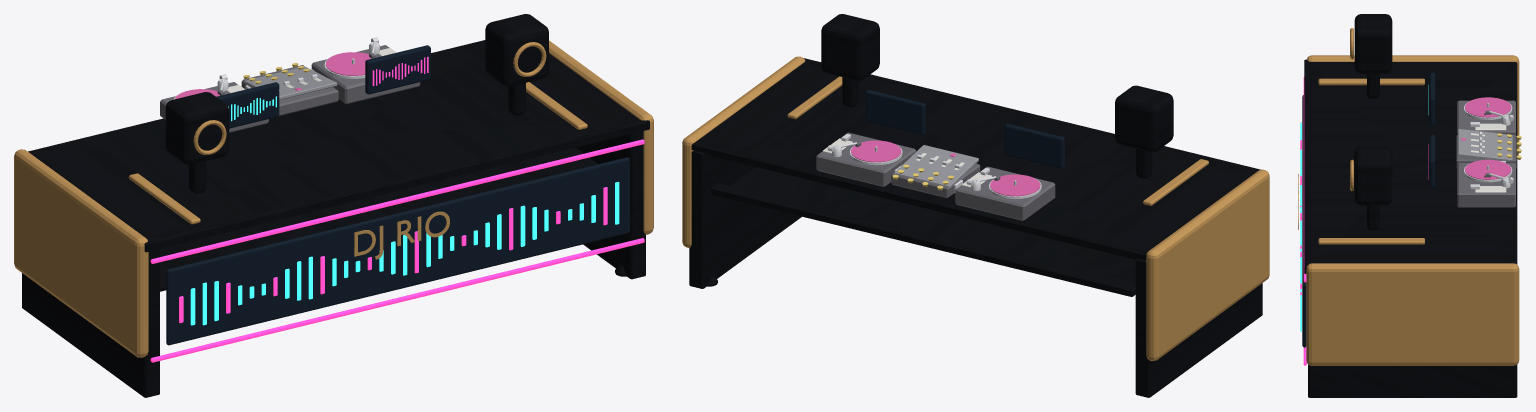
The model's file is dj-rio-console.glb.
3 views of the same model, side by side, from view 1: azimuth 30°, elevation 25°; view 2: azimuth 150°, elevation 25°; view 3: azimuth 270°, elevation 25° (orthographic). The views are drawn at different scales.
Visible parts, largest first — view 1: dj-booth-desk, Rio / deck display -1, Rio / side cheek, Rio / waveform.018, Rio / waveform, dj-mixer, turntable-deck_0.001, platter/mat.001, turntable-deck; view 2: dj-booth-desk, Rio / side cheek, Rio / deck display -1, dj-mixer, turntable-deck, turntable-deck_0.001, platter/mat.001, platter/mat; view 3: dj-booth-desk, Rio / side cheek, dj-mixer, turntable-deck_0.001, Rio / deck display -1, turntable-deck, platter/mat, platter/mat.001, Rio / waveform.018, turntable-deck_2.001, Rio / waveform.
Boxes of the visible parts, left/top/right/bottom form: dj-booth-desk: left=22, top=14, right=649, bottom=397; Rio / deck display -1: left=166, top=45, right=629, bottom=345; Rio / side cheek: left=14, top=40, right=653, bottom=357; Rio / waveform.018: left=150, top=56, right=644, bottom=362; Rio / waveform: left=190, top=96, right=619, bottom=325; dj-mixer: left=241, top=63, right=338, bottom=115; turntable-deck_0.001: left=311, top=45, right=420, bottom=104; platter/mat.001: left=325, top=52, right=375, bottom=75; turntable-deck: left=160, top=74, right=268, bottom=132; dj-booth-desk: left=689, top=14, right=1262, bottom=397; Rio / side cheek: left=682, top=56, right=1269, bottom=361; Rio / deck display -1: left=865, top=90, right=1064, bottom=168; dj-mixer: left=891, top=145, right=980, bottom=198; turntable-deck: left=955, top=166, right=1055, bottom=220; turntable-deck_0.001: left=816, top=132, right=916, bottom=186; platter/mat.001: left=851, top=140, right=901, bottom=162; platter/mat: left=990, top=174, right=1040, bottom=196; dj-booth-desk: left=1304, top=14, right=1517, bottom=397; Rio / side cheek: left=1298, top=28, right=1519, bottom=365; dj-mixer: left=1456, top=129, right=1521, bottom=168; turntable-deck_0.001: left=1457, top=163, right=1515, bottom=207; Rio / deck display -1: left=1302, top=72, right=1435, bottom=347; turntable-deck: left=1457, top=100, right=1515, bottom=134; platter/mat: left=1465, top=97, right=1511, bottom=117; platter/mat.001: left=1465, top=159, right=1511, bottom=179; Rio / waveform.018: left=1300, top=77, right=1428, bottom=365; turntable-deck_2.001: left=1464, top=164, right=1513, bottom=189; Rio / waveform: left=1300, top=85, right=1428, bottom=331.
Bounding box in the file's own units: 3.08 × 1.4 × 1.36.
21 materials, 1 textured.
